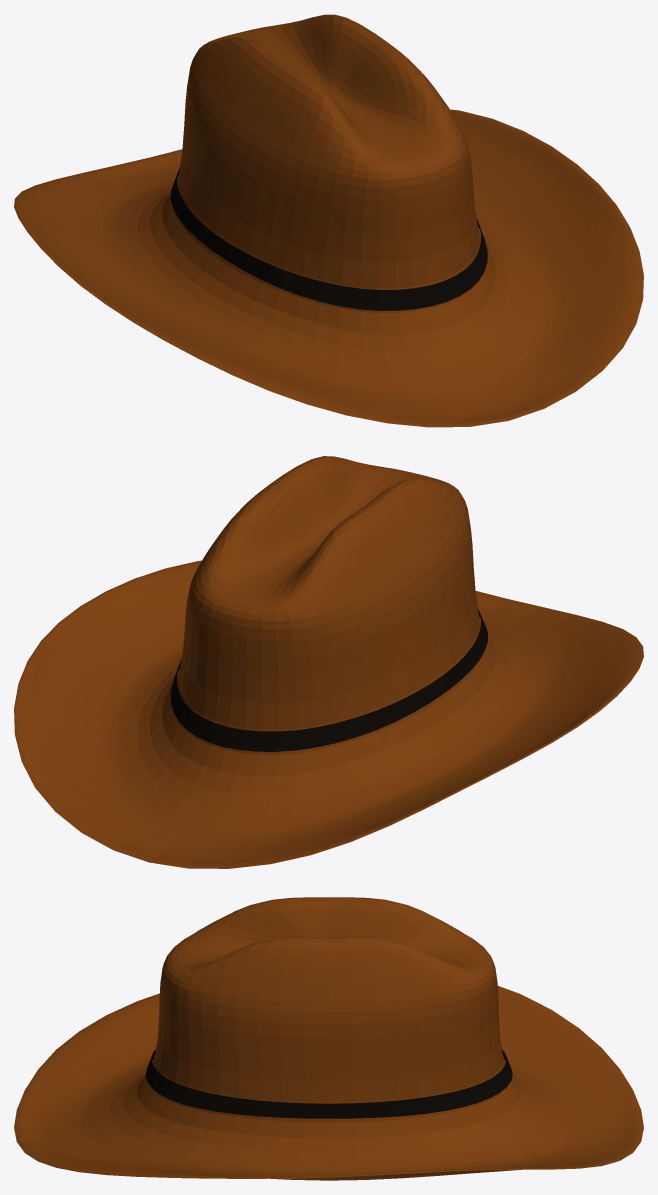
The model's file is cowboy_hat.obj.
The picture shows the model from 3 angles, top to bottom: view 1: azimuth 30°, elevation 25°; view 2: azimuth 150°, elevation 25°; view 3: azimuth 270°, elevation 25°; orthographic projection. The views are drawn at different scales.
Visible parts, largest first — view 1: Circle.001_None; view 2: Circle.001_None; view 3: Circle.001_None.
Part boxes in pixels (bbox=[...]): Circle.001_None: bbox=[14, 14, 643, 427]; Circle.001_None: bbox=[14, 456, 643, 868]; Circle.001_None: bbox=[14, 897, 643, 1180].
Size of the model in its own units: 0.1895 by 0.0876 by 0.2376.
